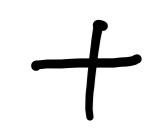plus: (29, 19, 141, 119)
